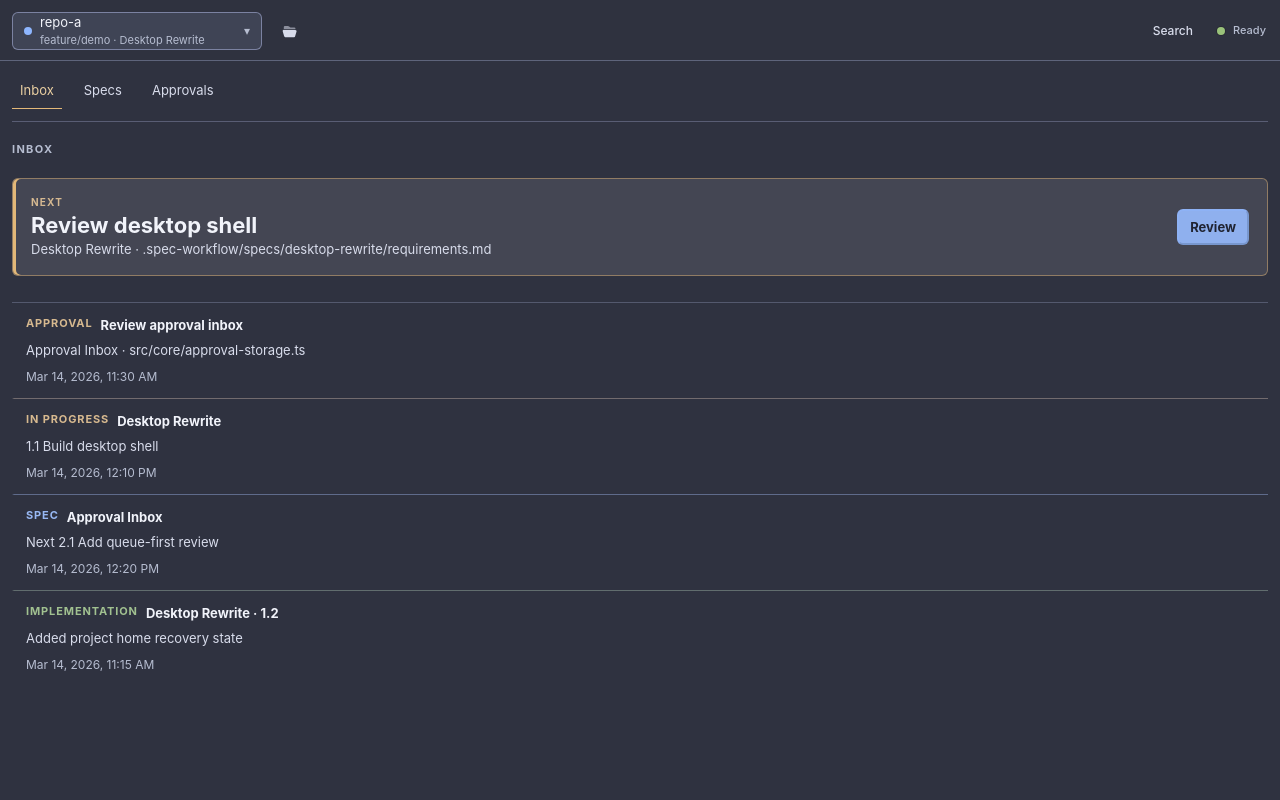
Test case: App › opens the project picker as a dialog with a labeled control relationship
What coordinates should you click on to do the following:
click the button "repo-a feature/demo · Desktop Rewrite ▾"
I would click on:
 (137, 31)
Its box is [12,12,262,50].
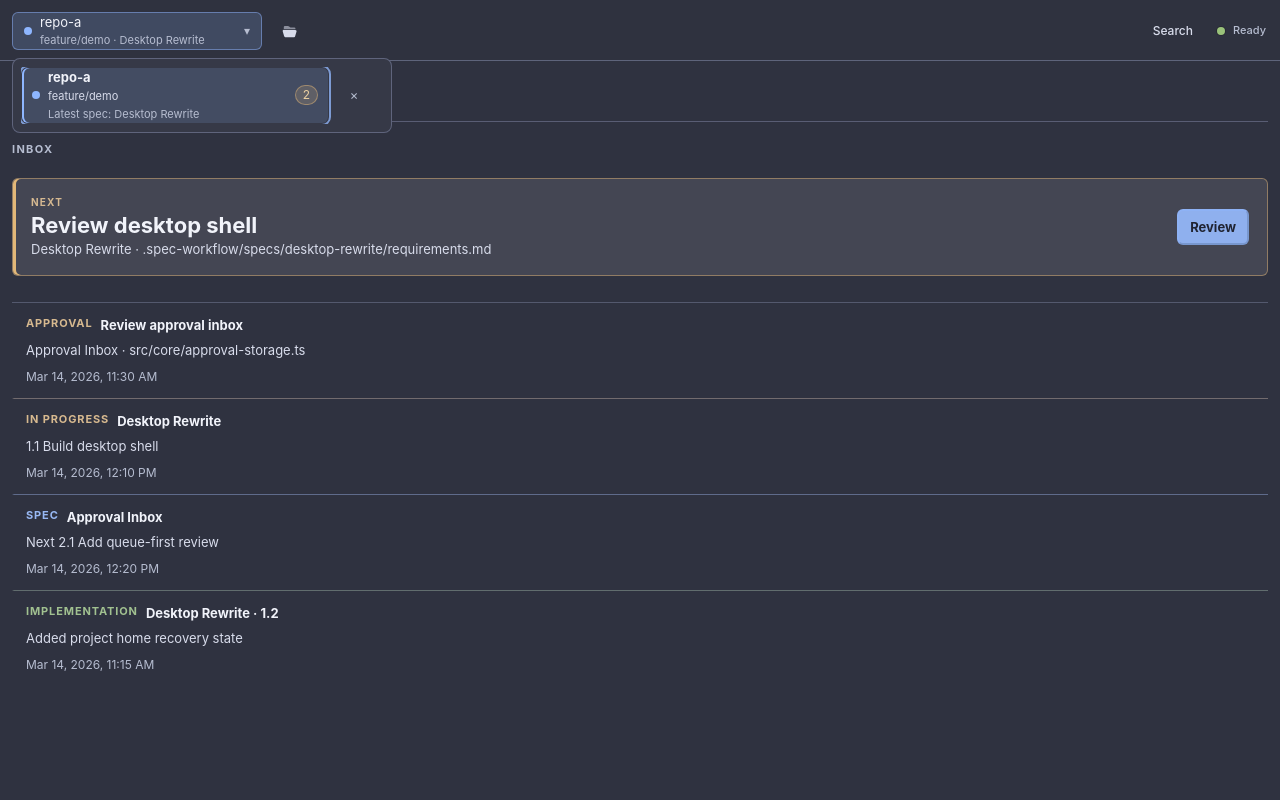
Now the dialog named "Project picker" is shown, box [12,58,392,132]
